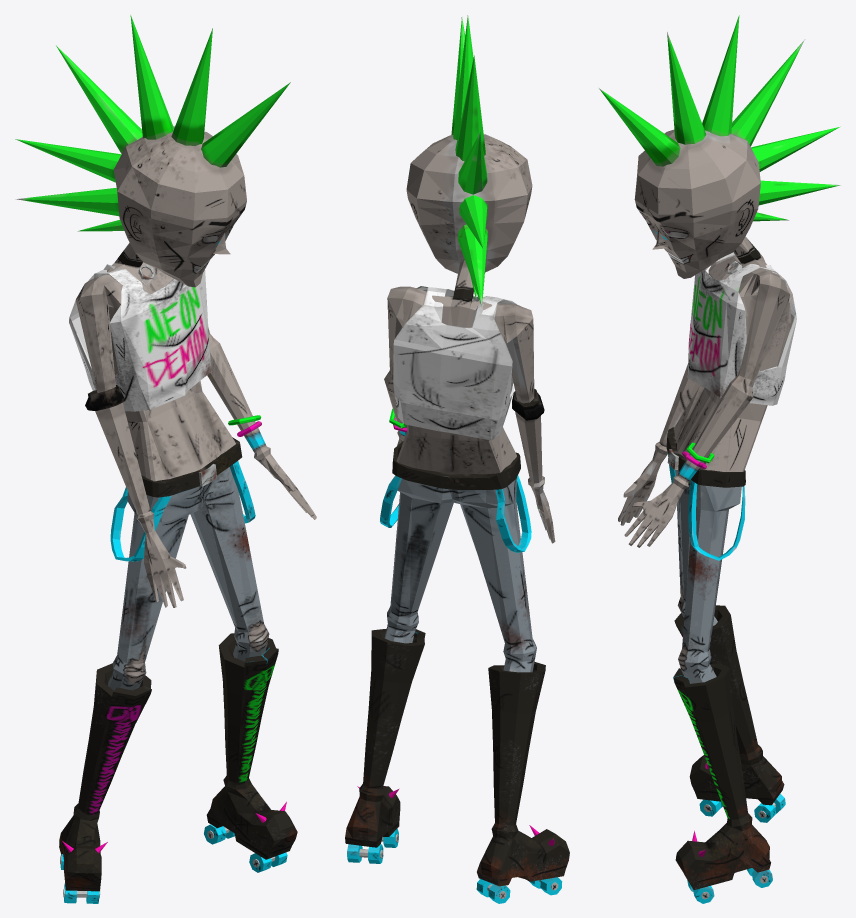
Rendered from punkAnimation_000009.obj.
3 views of the same model, side by side, from view 1: azimuth 30°, elevation 25°; view 2: azimuth 150°, elevation 25°; view 3: azimuth 270°, elevation 25° (orthographic). The views are drawn at different scales.
Visible parts, largest first — view 1: Cube.004_Cube.003; view 2: Cube.004_Cube.003; view 3: Cube.004_Cube.003.
Part boxes in pixels (x1=…): Cube.004_Cube.003: x1=15, y1=15, x2=316, y2=903; Cube.004_Cube.003: x1=345, y1=15, x2=569, y2=903; Cube.004_Cube.003: x1=599, y1=15, x2=840, y2=903.
Bounding box in the file's own units: 1.98 × 7.47 × 1.98.
